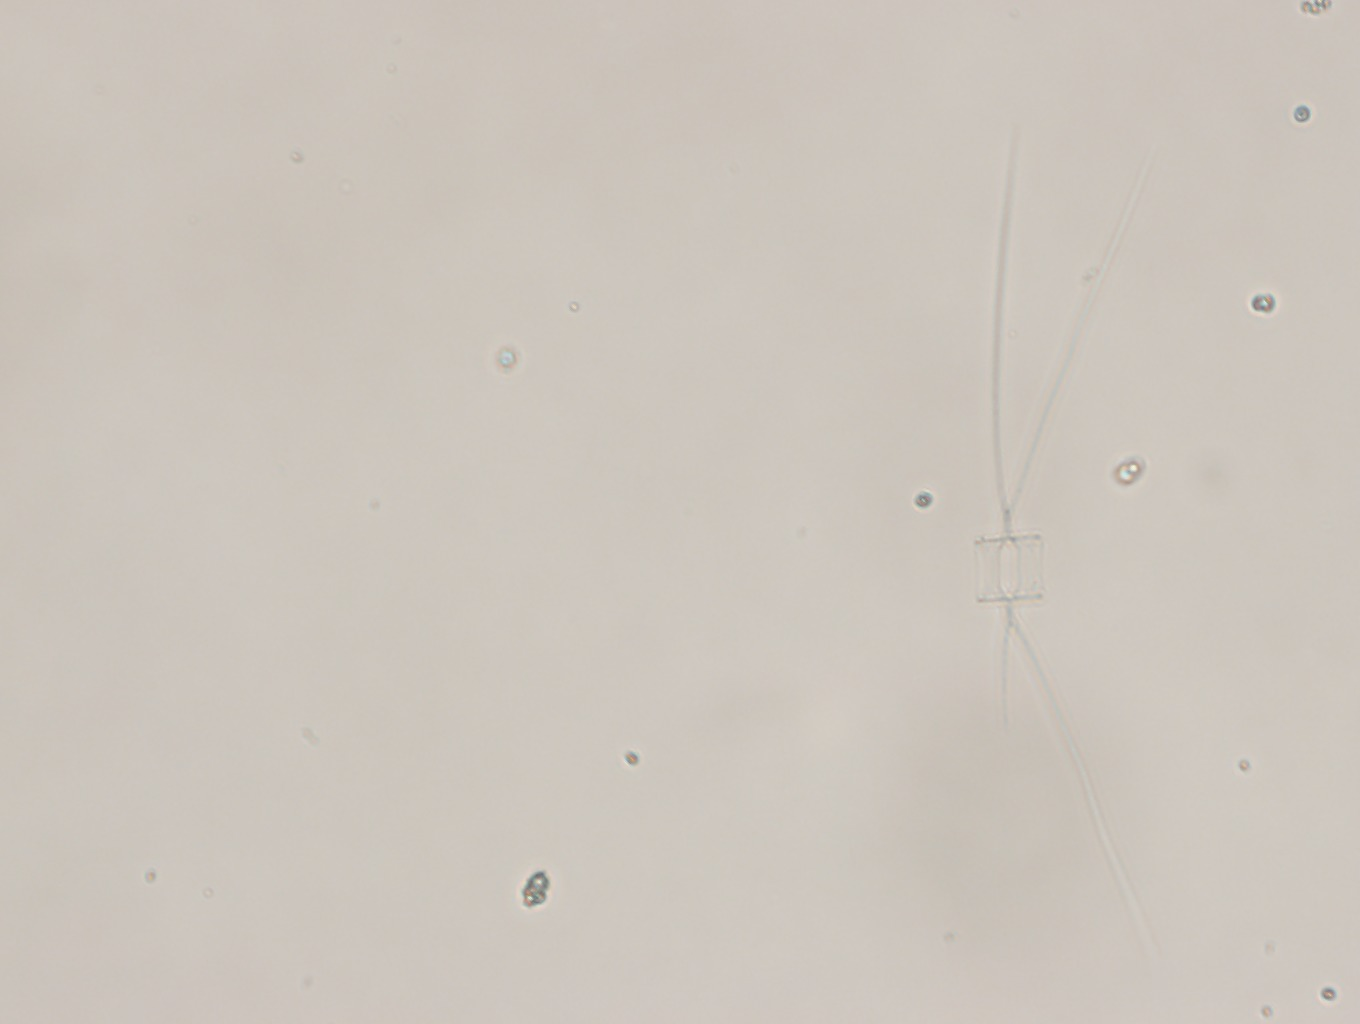chaetoceros: (945, 99, 1177, 973)
